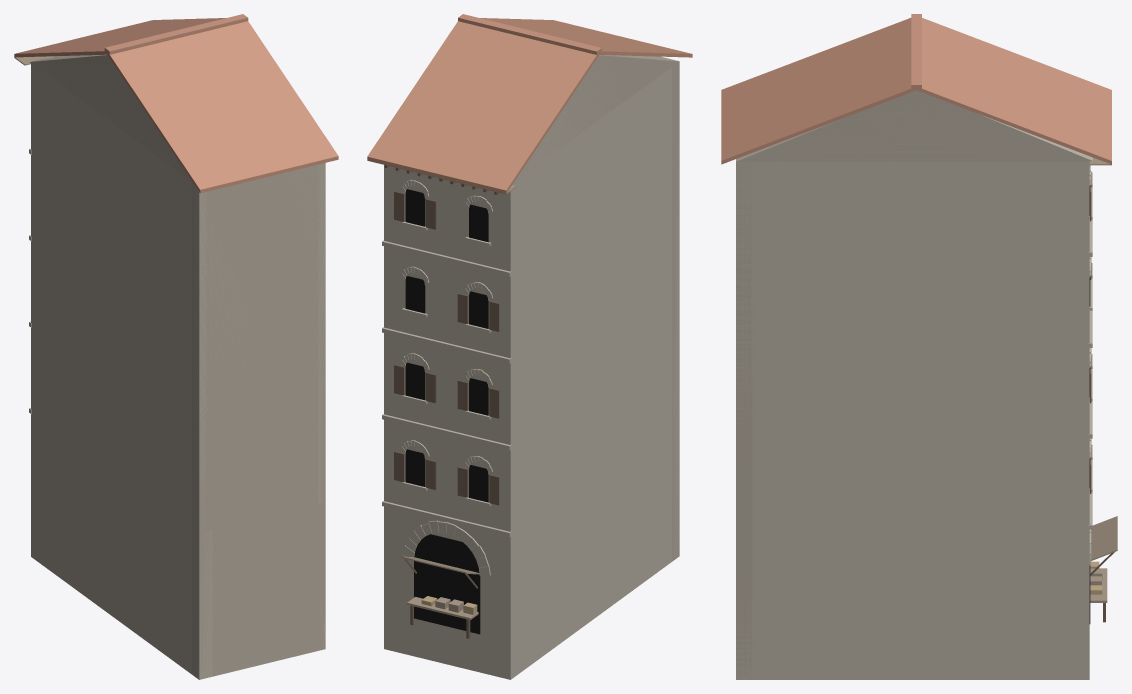
File: casa-52-4-pietra.glb
3 renders of one model, left to right at view 1: azimuth 30°, elevation 25°; view 2: azimuth 150°, elevation 25°; view 3: azimuth 270°, elevation 25°, orthographic. The views are drawn at different scales.
Visible parts, largest first — view 1: vicino, lontano; view 2: lontano, vicino, aperta; view 3: vicino, lontano, aperta.
Part boxes in pixels (x1,y1,x2,y2): vicino: (14,14,338,679); lontano: (17,52,338,677); lontano: (368,52,690,679); vicino: (367,14,692,679); aperta: (401,556,479,638); vicino: (721,14,1111,679); lontano: (722,89,1109,679); aperta: (1090,516,1117,622).
Size of the model in its own units: 5.7 by 22.38 by 13.45.
